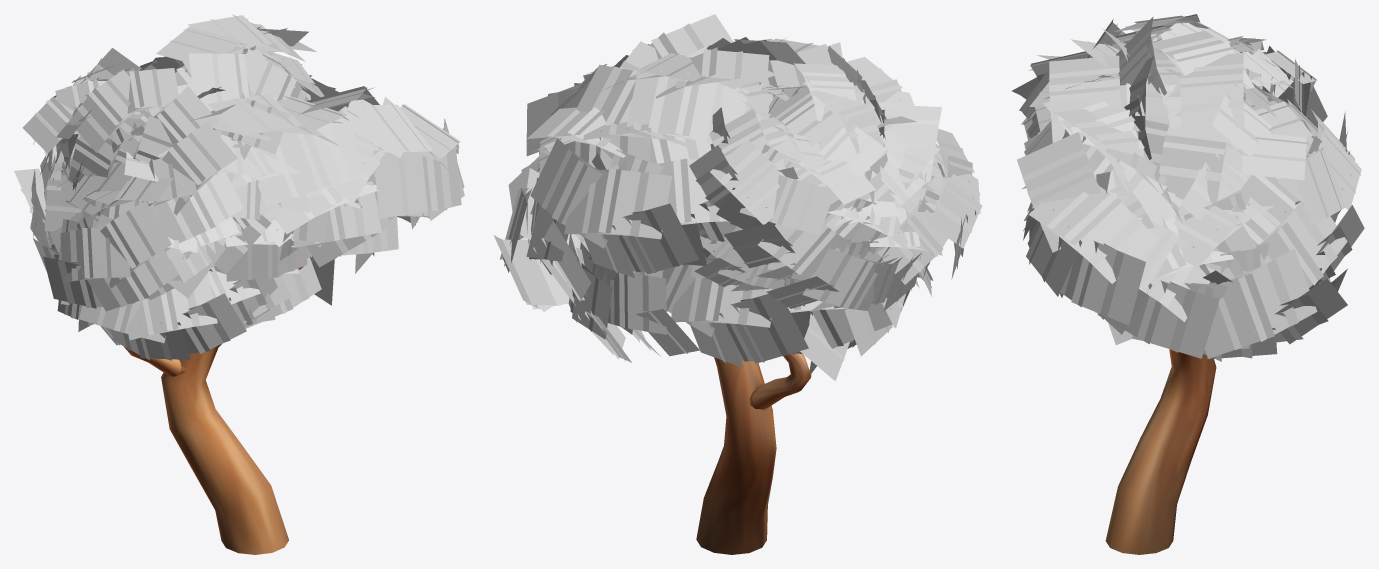
File: cherry.fbx
3 views of the same model, side by side, from view 1: azimuth 30°, elevation 25°; view 2: azimuth 150°, elevation 25°; view 3: azimuth 270°, elevation 25° (orthographic). The views are drawn at different scales.
Visible parts, largest first — view 1: Plane.001, Plane.002, BezierCurve.001; view 2: Plane.001, Plane.002, BezierCurve.001; view 3: Plane.001, BezierCurve.001, Plane.002.
Boxes of the visible parts, box(x1,y1,x2,y2) form: Plane.001: box(54, 14, 464, 360); Plane.002: box(14, 48, 309, 311); BezierCurve.001: box(124, 266, 303, 554); Plane.001: box(493, 14, 933, 381); Plane.002: box(689, 40, 982, 311); BezierCurve.001: box(696, 353, 811, 554); Plane.001: box(1017, 17, 1364, 361); BezierCurve.001: box(1105, 349, 1216, 554); Plane.002: box(1012, 14, 1327, 149).
Size of the model in its own units: 283 by 323 by 209.
2 materials, 1 textured.
